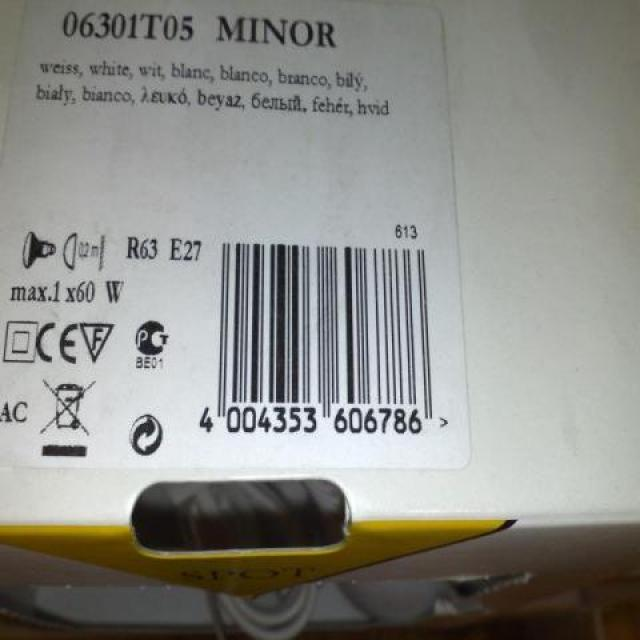Barcode: (196, 215, 456, 454)
